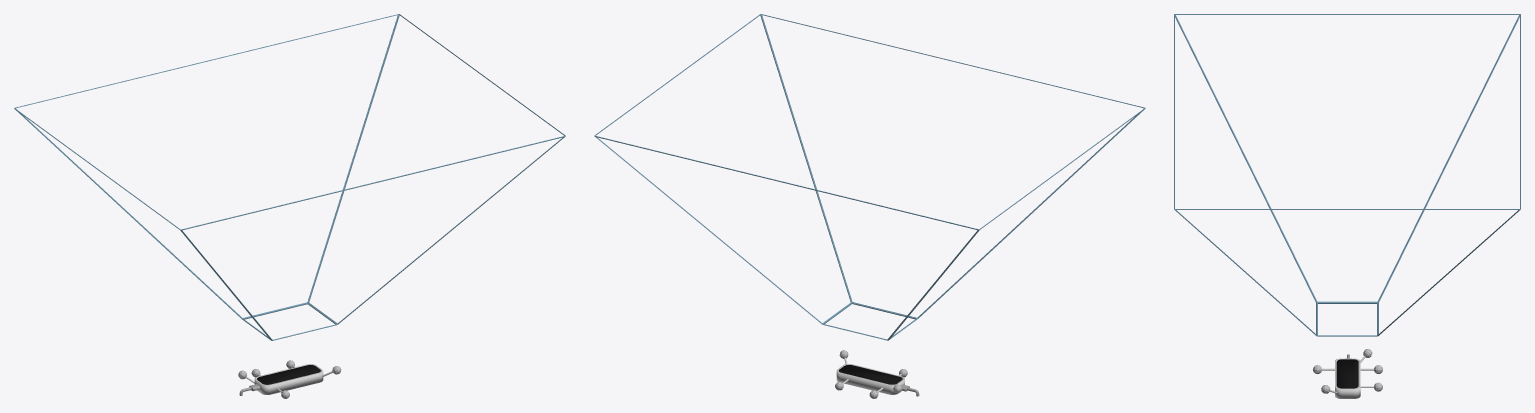
The model's file is LeapModel.fbx.
The picture shows the model from 3 angles, left to right: view 1: azimuth 30°, elevation 25°; view 2: azimuth 150°, elevation 25°; view 3: azimuth 270°, elevation 25°; orthographic projection. The views are drawn at different scales.
Visible parts, largest first — view 1: Cube.003, Cube; view 2: Cube.003, Cube; view 3: Cube.003, Cube.
Part boxes in pixels (<box>): Cube.003: <box>14,14,565,340</box>; Cube: <box>254,364,323,394</box>; Cube.003: <box>594,14,1145,340</box>; Cube: <box>836,364,904,394</box>; Cube.003: <box>1174,14,1520,336</box>; Cube: <box>1335,358,1360,398</box>.
Size of the model in its own units: 101 by 65.83 by 75.93.
